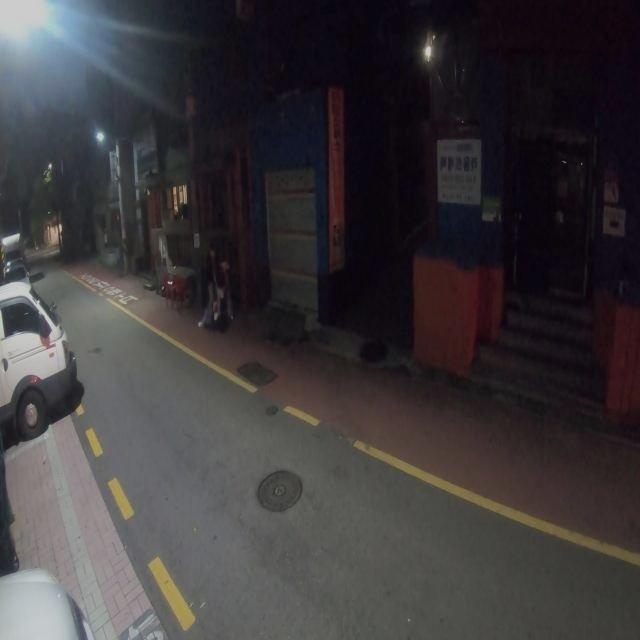fight: (196, 243, 236, 329)
